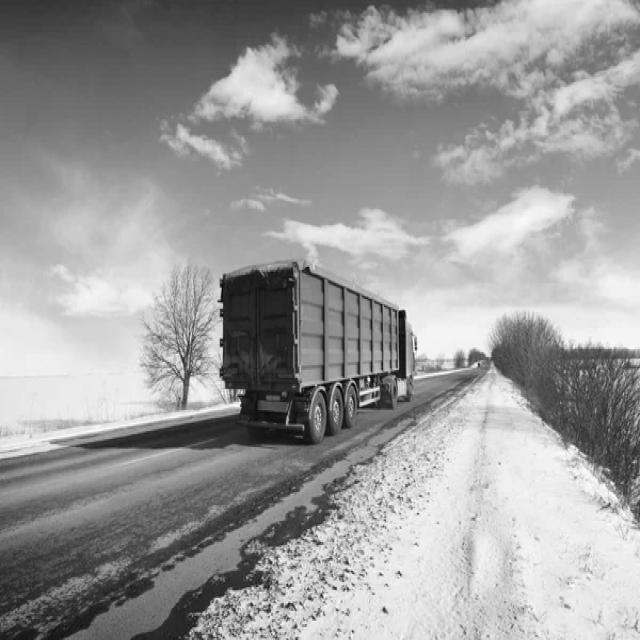Truck: (221, 261, 418, 443)
